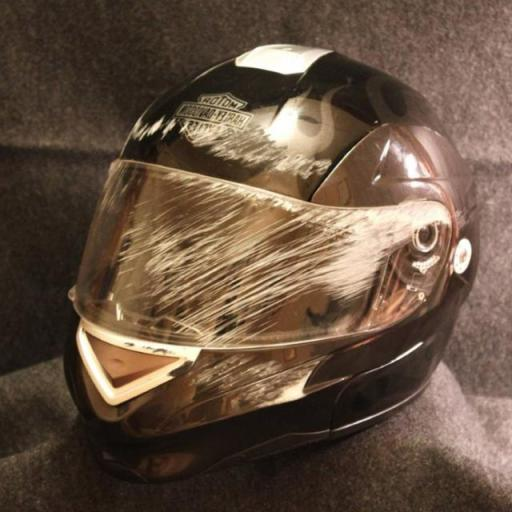Helmet: (65, 45, 477, 480)
